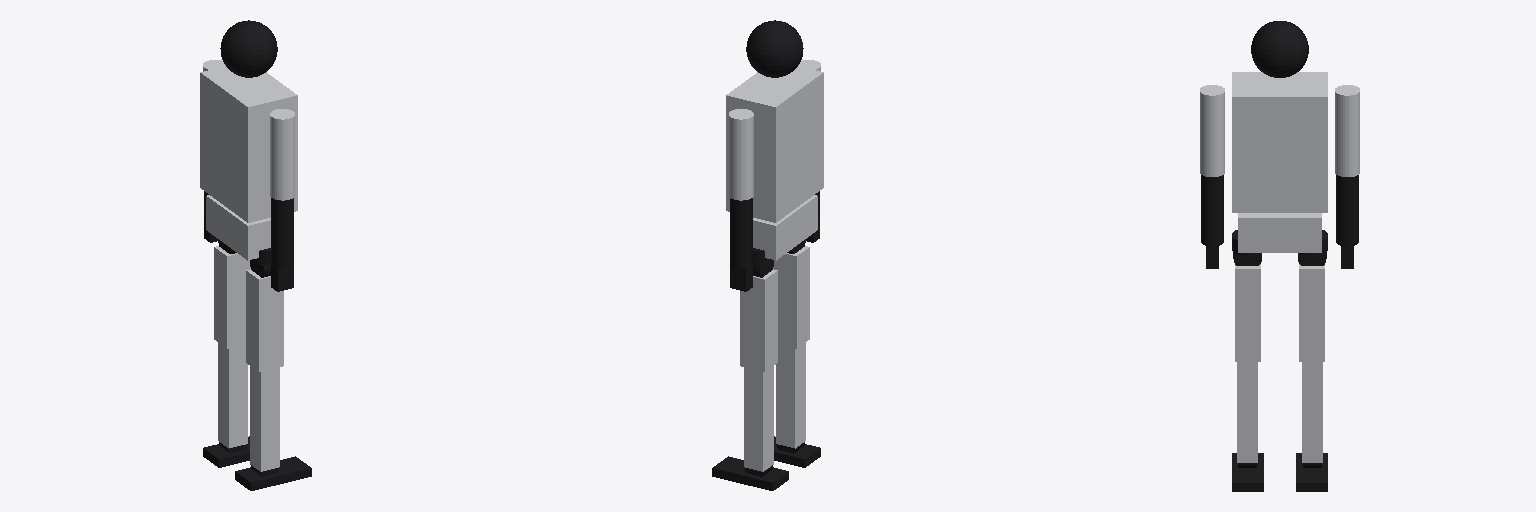
robot.urdf — biped_test:
<?xml version="1.0"?>
<!--
  A primitive biped for botrail's gait tests and the offline humanoid demo:
  a pelvis with a torso and head, two 6-DOF legs (hip yaw / roll / pitch,
  knee, ankle pitch / roll) whose foot link is the ankle roll link with its
  sole 50 mm below, and two 2-DOF arms (shoulder pitch, elbow) ending in a
  hand link. Stance: hip pitch -0.4, knee 0.8, ankle pitch -0.4 stands
  0.645 m of leg under the pelvis with the soles flat; foot_radius 0.05.
  Elbows bend forward (negative), like a person's.
-->
<robot name="biped_test">
  <link name="pelvis">
    <visual><geometry><box size="0.16 0.26 0.12"/></geometry>
      <material name="shell"><color rgba="0.82 0.83 0.85 1"/></material></visual>
  </link>
  <link name="torso">
    <visual><origin xyz="0 0 0.22"/><geometry><box size="0.18 0.30 0.40"/></geometry>
      <material name="shell"><color rgba="0.82 0.83 0.85 1"/></material></visual>
  </link>
  <joint name="waist_joint" type="fixed">
    <parent link="pelvis"/><child link="torso"/>
    <origin xyz="0 0 0.06"/>
  </joint>
  <link name="head">
    <visual><geometry><sphere radius="0.09"/></geometry>
      <material name="dark"><color rgba="0.15 0.15 0.16 1"/></material></visual>
  </link>
  <joint name="neck_joint" type="fixed">
    <parent link="torso"/><child link="head"/>
    <origin xyz="0 0 0.54"/>
  </joint>

  <link name="L_hip_yaw_link">
    <visual><geometry><cylinder radius="0.05" length="0.05"/></geometry>
      <material name="dark"><color rgba="0.15 0.15 0.16 1"/></material></visual>
  </link>
  <joint name="L_hip_yaw_joint" type="revolute">
    <parent link="pelvis"/><child link="L_hip_yaw_link"/>
    <origin xyz="0 0.1 -0.06"/>
    <axis xyz="0 0 1"/>
    <limit lower="-1.5" upper="1.5" effort="50" velocity="5"/>
  </joint>
  <link name="L_hip_roll_link">
    <visual><origin rpy="0 1.5707963 0"/><geometry><cylinder radius="0.045" length="0.06"/></geometry>
      <material name="dark"><color rgba="0.15 0.15 0.16 1"/></material></visual>
  </link>
  <joint name="L_hip_roll_joint" type="revolute">
    <parent link="L_hip_yaw_link"/><child link="L_hip_roll_link"/>
    <origin xyz="0 0 -0.04"/>
    <axis xyz="1 0 0"/>
    <limit lower="-0.6" upper="0.6" effort="50" velocity="5"/>
  </joint>
  <link name="L_thigh">
    <visual><origin xyz="0 0 -0.19"/><geometry><box size="0.09 0.08 0.32"/></geometry>
      <material name="shell"><color rgba="0.82 0.83 0.85 1"/></material></visual>
  </link>
  <joint name="L_hip_pitch_joint" type="revolute">
    <parent link="L_hip_roll_link"/><child link="L_thigh"/>
    <origin xyz="0 0 0"/>
    <axis xyz="0 1 0"/>
    <limit lower="-2.0" upper="2.0" effort="50" velocity="5"/>
  </joint>
  <link name="L_shank">
    <visual><origin xyz="0 0 -0.175"/><geometry><box size="0.07 0.065 0.35"/></geometry>
      <material name="shell"><color rgba="0.82 0.83 0.85 1"/></material></visual>
  </link>
  <joint name="L_knee_joint" type="revolute">
    <parent link="L_thigh"/><child link="L_shank"/>
    <origin xyz="0 0 -0.35"/>
    <axis xyz="0 1 0"/>
    <limit lower="0.0" upper="2.5" effort="50" velocity="5"/>
  </joint>
  <link name="L_ankle_pitch_link">
    <visual><origin rpy="1.5707963 0 0"/><geometry><cylinder radius="0.035" length="0.06"/></geometry>
      <material name="dark"><color rgba="0.15 0.15 0.16 1"/></material></visual>
  </link>
  <joint name="L_ankle_pitch_joint" type="revolute">
    <parent link="L_shank"/><child link="L_ankle_pitch_link"/>
    <origin xyz="0 0 -0.35"/>
    <axis xyz="0 1 0"/>
    <limit lower="-1.0" upper="1.0" effort="50" velocity="5"/>
  </joint>
  <link name="L_foot">
    <visual><origin xyz="0.03 0 -0.035"/><geometry><box size="0.22 0.10 0.03"/></geometry>
      <material name="dark"><color rgba="0.15 0.15 0.16 1"/></material></visual>
  </link>
  <joint name="L_ankle_roll_joint" type="revolute">
    <parent link="L_ankle_pitch_link"/><child link="L_foot"/>
    <origin xyz="0 0 0"/>
    <axis xyz="1 0 0"/>
    <limit lower="-0.5" upper="0.5" effort="50" velocity="5"/>
  </joint>

  <link name="R_hip_yaw_link">
    <visual><geometry><cylinder radius="0.05" length="0.05"/></geometry>
      <material name="dark"><color rgba="0.15 0.15 0.16 1"/></material></visual>
  </link>
  <joint name="R_hip_yaw_joint" type="revolute">
    <parent link="pelvis"/><child link="R_hip_yaw_link"/>
    <origin xyz="0 -0.1 -0.06"/>
    <axis xyz="0 0 1"/>
    <limit lower="-1.5" upper="1.5" effort="50" velocity="5"/>
  </joint>
  <link name="R_hip_roll_link">
    <visual><origin rpy="0 1.5707963 0"/><geometry><cylinder radius="0.045" length="0.06"/></geometry>
      <material name="dark"><color rgba="0.15 0.15 0.16 1"/></material></visual>
  </link>
  <joint name="R_hip_roll_joint" type="revolute">
    <parent link="R_hip_yaw_link"/><child link="R_hip_roll_link"/>
    <origin xyz="0 0 -0.04"/>
    <axis xyz="1 0 0"/>
    <limit lower="-0.6" upper="0.6" effort="50" velocity="5"/>
  </joint>
  <link name="R_thigh">
    <visual><origin xyz="0 0 -0.19"/><geometry><box size="0.09 0.08 0.32"/></geometry>
      <material name="shell"><color rgba="0.82 0.83 0.85 1"/></material></visual>
  </link>
  <joint name="R_hip_pitch_joint" type="revolute">
    <parent link="R_hip_roll_link"/><child link="R_thigh"/>
    <origin xyz="0 0 0"/>
    <axis xyz="0 1 0"/>
    <limit lower="-2.0" upper="2.0" effort="50" velocity="5"/>
  </joint>
  <link name="R_shank">
    <visual><origin xyz="0 0 -0.175"/><geometry><box size="0.07 0.065 0.35"/></geometry>
      <material name="shell"><color rgba="0.82 0.83 0.85 1"/></material></visual>
  </link>
  <joint name="R_knee_joint" type="revolute">
    <parent link="R_thigh"/><child link="R_shank"/>
    <origin xyz="0 0 -0.35"/>
    <axis xyz="0 1 0"/>
    <limit lower="0.0" upper="2.5" effort="50" velocity="5"/>
  </joint>
  <link name="R_ankle_pitch_link">
    <visual><origin rpy="1.5707963 0 0"/><geometry><cylinder radius="0.035" length="0.06"/></geometry>
      <material name="dark"><color rgba="0.15 0.15 0.16 1"/></material></visual>
  </link>
  <joint name="R_ankle_pitch_joint" type="revolute">
    <parent link="R_shank"/><child link="R_ankle_pitch_link"/>
    <origin xyz="0 0 -0.35"/>
    <axis xyz="0 1 0"/>
    <limit lower="-1.0" upper="1.0" effort="50" velocity="5"/>
  </joint>
  <link name="R_foot">
    <visual><origin xyz="0.03 0 -0.035"/><geometry><box size="0.22 0.10 0.03"/></geometry>
      <material name="dark"><color rgba="0.15 0.15 0.16 1"/></material></visual>
  </link>
  <joint name="R_ankle_roll_joint" type="revolute">
    <parent link="R_ankle_pitch_link"/><child link="R_foot"/>
    <origin xyz="0 0 0"/>
    <axis xyz="1 0 0"/>
    <limit lower="-0.5" upper="0.5" effort="50" velocity="5"/>
  </joint>

  <link name="L_upper_arm">
    <visual><origin xyz="0 0 -0.14"/><geometry><cylinder radius="0.04" length="0.28"/></geometry>
      <material name="shell"><color rgba="0.82 0.83 0.85 1"/></material></visual>
  </link>
  <joint name="L_shoulder_pitch_joint" type="revolute">
    <parent link="torso"/><child link="L_upper_arm"/>
    <origin xyz="0 0.21 0.40"/>
    <axis xyz="0 1 0"/>
    <limit lower="-3.0" upper="3.0" effort="30" velocity="5"/>
  </joint>
  <link name="L_forearm">
    <visual><origin xyz="0 0 -0.12"/><geometry><cylinder radius="0.035" length="0.24"/></geometry>
      <material name="dark"><color rgba="0.15 0.15 0.16 1"/></material></visual>
  </link>
  <joint name="L_elbow_joint" type="revolute">
    <parent link="L_upper_arm"/><child link="L_forearm"/>
    <origin xyz="0 0 -0.28"/>
    <axis xyz="0 1 0"/>
    <limit lower="-2.5" upper="0.0" effort="30" velocity="5"/>
  </joint>
  <link name="L_hand">
    <visual><geometry><box size="0.06 0.04 0.10"/></geometry>
      <material name="dark"><color rgba="0.15 0.15 0.16 1"/></material></visual>
  </link>
  <joint name="L_wrist_joint" type="fixed">
    <parent link="L_forearm"/><child link="L_hand"/>
    <origin xyz="0 0 -0.27"/>
  </joint>

  <link name="R_upper_arm">
    <visual><origin xyz="0 0 -0.14"/><geometry><cylinder radius="0.04" length="0.28"/></geometry>
      <material name="shell"><color rgba="0.82 0.83 0.85 1"/></material></visual>
  </link>
  <joint name="R_shoulder_pitch_joint" type="revolute">
    <parent link="torso"/><child link="R_upper_arm"/>
    <origin xyz="0 -0.21 0.40"/>
    <axis xyz="0 1 0"/>
    <limit lower="-3.0" upper="3.0" effort="30" velocity="5"/>
  </joint>
  <link name="R_forearm">
    <visual><origin xyz="0 0 -0.12"/><geometry><cylinder radius="0.035" length="0.24"/></geometry>
      <material name="dark"><color rgba="0.15 0.15 0.16 1"/></material></visual>
  </link>
  <joint name="R_elbow_joint" type="revolute">
    <parent link="R_upper_arm"/><child link="R_forearm"/>
    <origin xyz="0 0 -0.28"/>
    <axis xyz="0 1 0"/>
    <limit lower="-2.5" upper="0.0" effort="30" velocity="5"/>
  </joint>
  <link name="R_hand">
    <visual><geometry><box size="0.06 0.04 0.10"/></geometry>
      <material name="dark"><color rgba="0.15 0.15 0.16 1"/></material></visual>
  </link>
  <joint name="R_wrist_joint" type="fixed">
    <parent link="R_forearm"/><child link="R_hand"/>
    <origin xyz="0 0 -0.27"/>
  </joint>
</robot>

--- Render facts (derived) ---
Views: 3 orthographic renders of the robot side by side, from view 1: azimuth 30°, elevation 25°; view 2: azimuth 150°, elevation 25°; view 3: azimuth 270°, elevation 25°.
Robot: biped_test — 21 links, 20 joints (16 revolute, 4 fixed); root link pelvis; default pose: all joints at 0.
Links seen in each view (by area): view 1: torso, R_thigh, L_thigh, R_shank, L_shank, head, pelvis, R_upper_arm, R_forearm, R_foot, L_foot; view 2: torso, L_thigh, R_thigh, L_shank, R_shank, head, pelvis, L_upper_arm, L_forearm, L_foot, R_foot; view 3: torso, pelvis, head, L_thigh, R_thigh, L_upper_arm, R_upper_arm, L_shank, R_shank, L_forearm, R_forearm, L_foot (+1 smaller).
Boxes of the visible links, x1=… form: torso: x1=200, y1=66, x2=297, y2=222; R_thigh: x1=246, y1=269, x2=283, y2=371; L_thigh: x1=214, y1=246, x2=250, y2=348; R_shank: x1=250, y1=366, x2=279, y2=471; L_shank: x1=218, y1=343, x2=247, y2=448; head: x1=220, y1=20, x2=277, y2=77; pelvis: x1=206, y1=195, x2=270, y2=260; R_upper_arm: x1=270, y1=109, x2=294, y2=200; R_forearm: x1=271, y1=198, x2=293, y2=268; R_foot: x1=235, y1=456, x2=311, y2=490; L_foot: x1=203, y1=436, x2=249, y2=467; torso: x1=726, y1=66, x2=823, y2=222; L_thigh: x1=740, y1=269, x2=777, y2=371; R_thigh: x1=773, y1=246, x2=809, y2=348; L_shank: x1=744, y1=366, x2=773, y2=471; R_shank: x1=776, y1=343, x2=805, y2=448; head: x1=746, y1=20, x2=803, y2=77; pelvis: x1=753, y1=195, x2=817, y2=260; L_upper_arm: x1=729, y1=109, x2=753, y2=200; L_forearm: x1=730, y1=198, x2=752, y2=268; L_foot: x1=712, y1=456, x2=788, y2=490; R_foot: x1=774, y1=436, x2=820, y2=467; torso: x1=1232, y1=72, x2=1327, y2=212; pelvis: x1=1238, y1=213, x2=1321, y2=252; head: x1=1251, y1=21, x2=1308, y2=77; L_thigh: x1=1299, y1=264, x2=1324, y2=361; R_thigh: x1=1235, y1=264, x2=1260, y2=361; L_upper_arm: x1=1335, y1=85, x2=1359, y2=176; R_upper_arm: x1=1200, y1=85, x2=1224, y2=176; L_shank: x1=1302, y1=362, x2=1322, y2=462; R_shank: x1=1237, y1=362, x2=1257, y2=462; L_forearm: x1=1336, y1=175, x2=1358, y2=246; R_forearm: x1=1201, y1=175, x2=1223, y2=246; L_foot: x1=1296, y1=453, x2=1327, y2=491.
Size in the robot's own frame: 0.23 by 0.5 by 1.54 metres.
Geometry: primitives only (box / cylinder / sphere), no mesh files.
